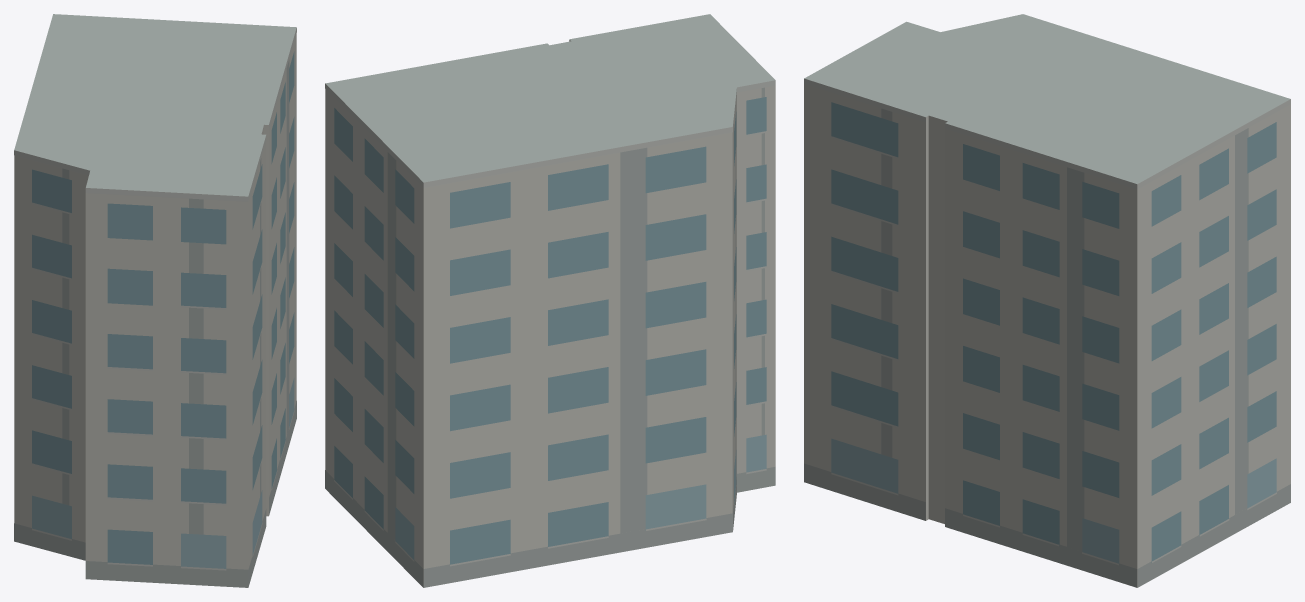
The model's file is survey-upis-32842895.glb.
3 renders of one model, left to right at view 1: azimuth 30°, elevation 25°; view 2: azimuth 150°, elevation 25°; view 3: azimuth 270°, elevation 25°, orthographic. The views are drawn at different scales.
Parts seen in each view (by area): view 1: survey-upis-32842895.tmp; view 2: survey-upis-32842895.tmp; view 3: survey-upis-32842895.tmp.
Part boxes in pixels (bbox=[...]): survey-upis-32842895.tmp: bbox=[14, 14, 296, 587]; survey-upis-32842895.tmp: bbox=[325, 14, 775, 587]; survey-upis-32842895.tmp: bbox=[804, 14, 1290, 587].
Bounding box in the file's own units: 16.65 × 18.4 × 20.12.
